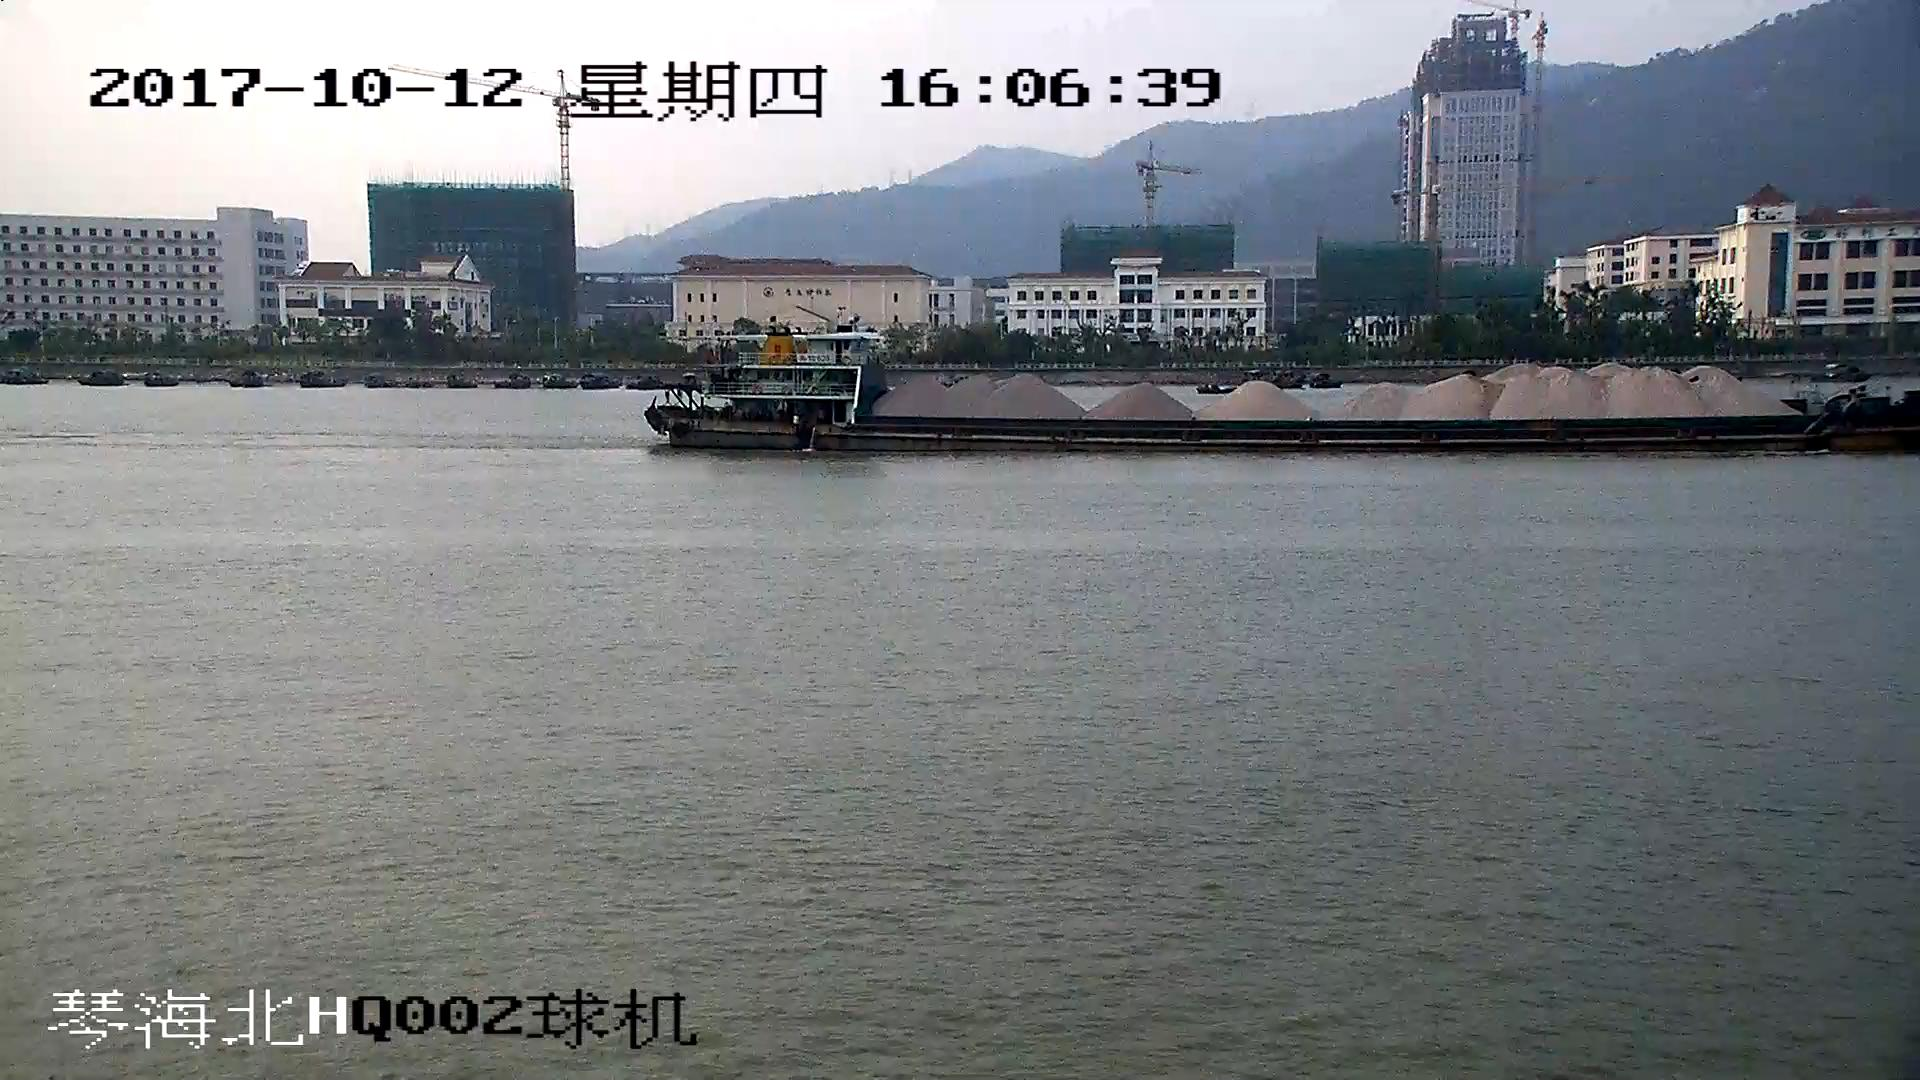ore carrier: (651, 336, 1920, 456)
